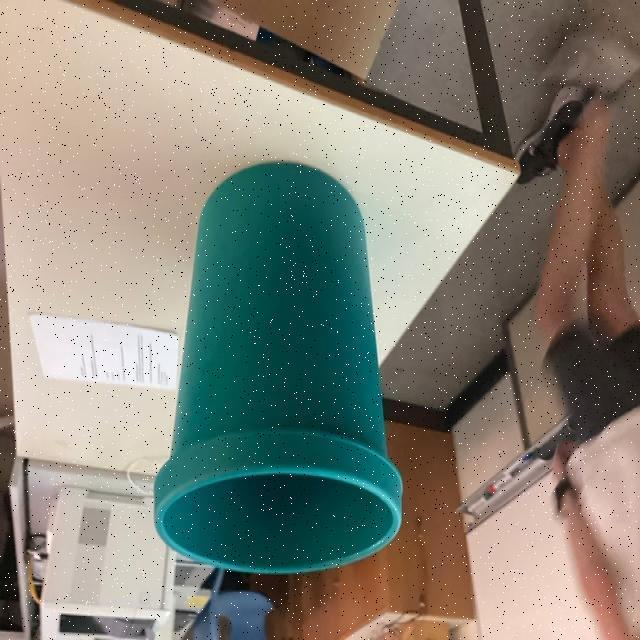garbage container: (129, 156, 410, 597)
